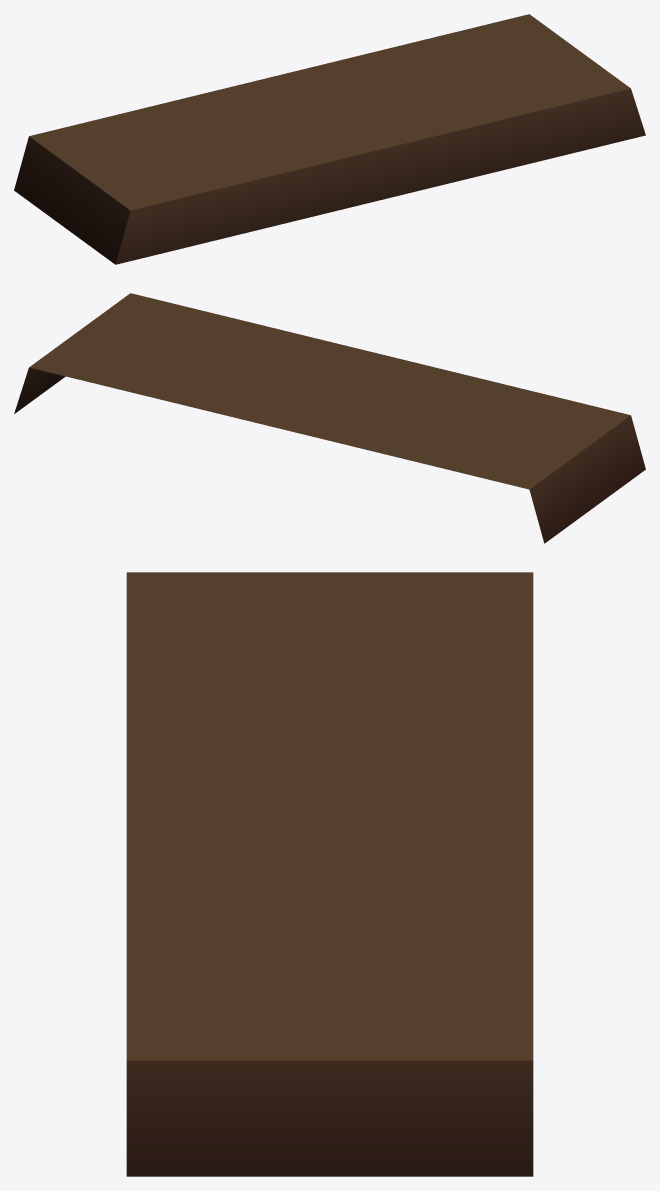
The model's file is Stairs_04A.fbx.
3 views of the same model, one above another, from view 1: azimuth 30°, elevation 25°; view 2: azimuth 150°, elevation 25°; view 3: azimuth 270°, elevation 25° (orthographic). The views are drawn at different scales.
Visible parts, largest first — view 1: Stairs_04A; view 2: Stairs_04A; view 3: Stairs_04A.
Boxes of the visible parts, x1=… form: Stairs_04A: x1=14, y1=14, x2=645, y2=264; Stairs_04A: x1=14, y1=293, x2=645, y2=543; Stairs_04A: x1=126, y1=572, x2=533, y2=1176.
Bounding box in the file's own units: 164 × 14.98 × 54.52.
1 material, 1 textured.
